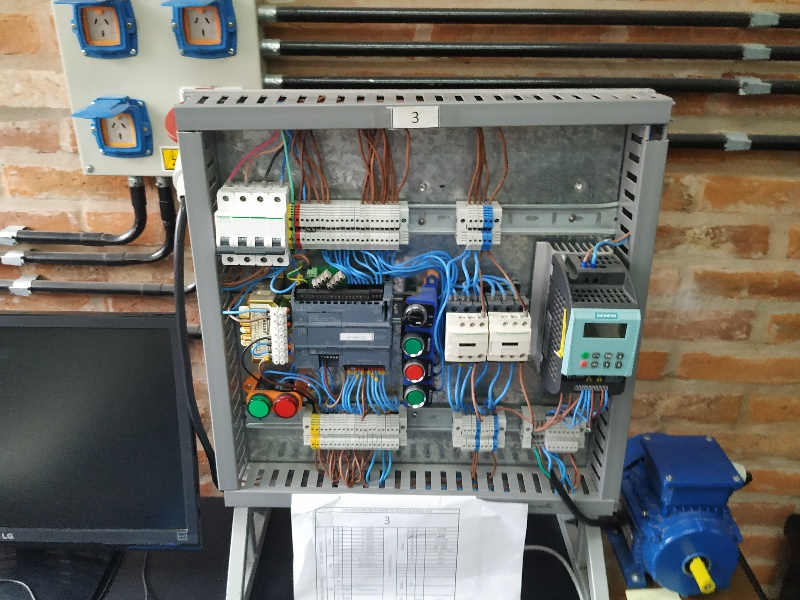Tablero 3: (193, 122, 644, 500)
